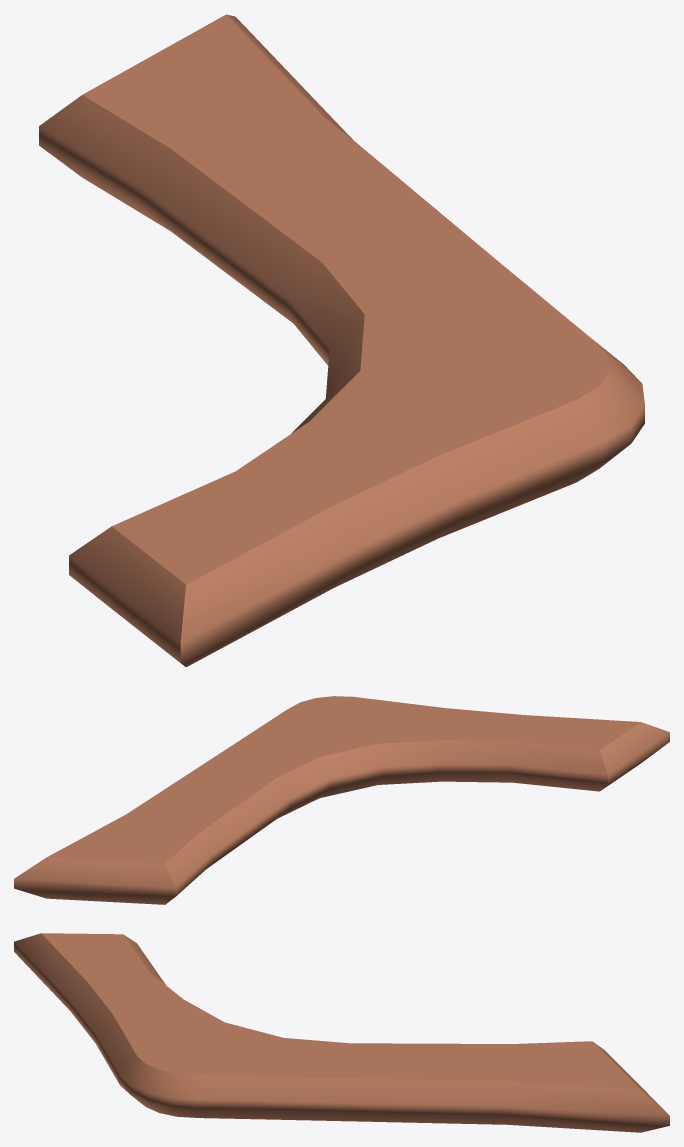
File: boomerang_attack.fbx
3 views of the same model, one above another, from view 1: azimuth 30°, elevation 25°; view 2: azimuth 150°, elevation 25°; view 3: azimuth 270°, elevation 25° (orthographic). The views are drawn at different scales.
Visible parts, largest first — view 1: Boomerang_1; view 2: Boomerang_1; view 3: Boomerang_1.
Part boxes in pixels (x1,y1,x2,y2): Boomerang_1: (39, 14, 644, 667); Boomerang_1: (14, 696, 669, 904); Boomerang_1: (14, 933, 669, 1132).
Size of the model in its own units: 128 by 14.78 by 204.
